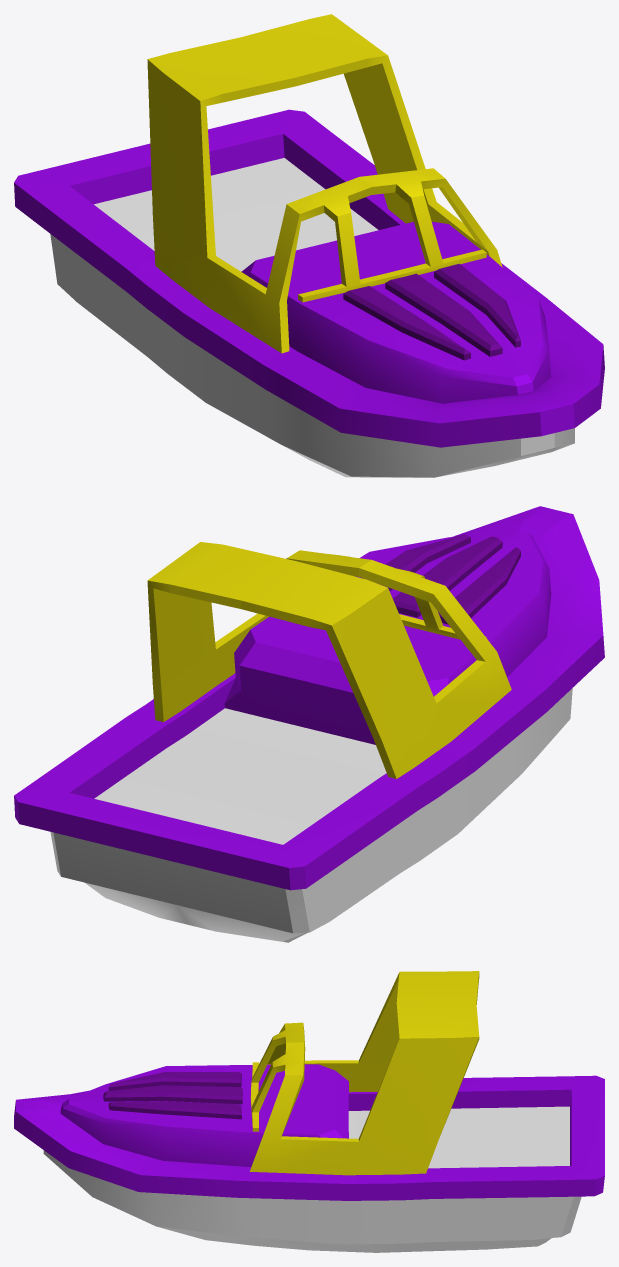
Rendered from Enemy_Fast.fbx.
The picture shows the model from 3 angles, top to bottom: view 1: azimuth 30°, elevation 25°; view 2: azimuth 150°, elevation 25°; view 3: azimuth 270°, elevation 25°; orthographic projection. The views are drawn at different scales.
Visible parts, largest first — view 1: Enemy_Fast; view 2: Enemy_Fast; view 3: Enemy_Fast.
Boxes of the visible parts, <box> form: Enemy_Fast: <box>14,14,604,477</box>; Enemy_Fast: <box>14,506,604,942</box>; Enemy_Fast: <box>14,971,604,1252</box>.
Size of the model in its own units: 81.86 by 80.29 by 197.
